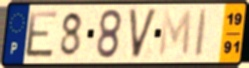8: (95, 8, 124, 61), (58, 10, 84, 58)
E: (24, 9, 60, 60)
I: (193, 8, 210, 59)
M: (157, 9, 194, 59)
V: (127, 7, 160, 62)
